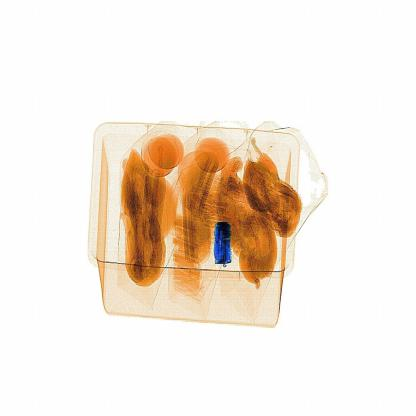scissors: (206, 209, 236, 259)
